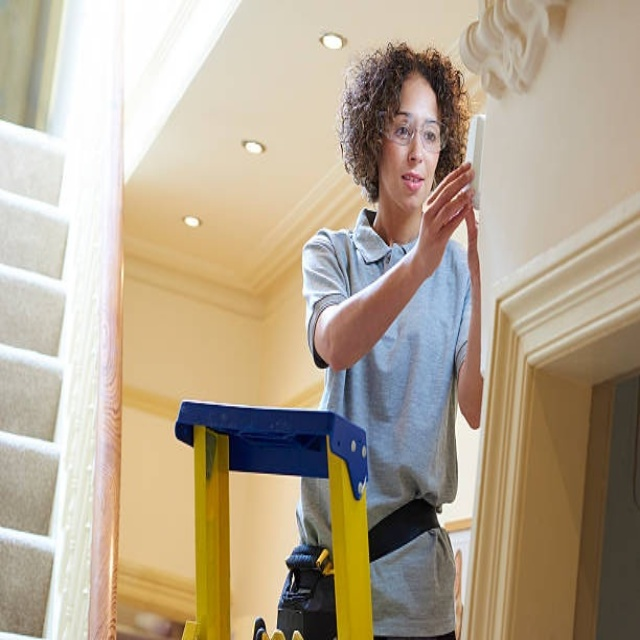Gafas: (378, 117, 447, 152)
Sin_guantes: (414, 155, 479, 273)
Sin_mascara: (392, 165, 430, 205)
